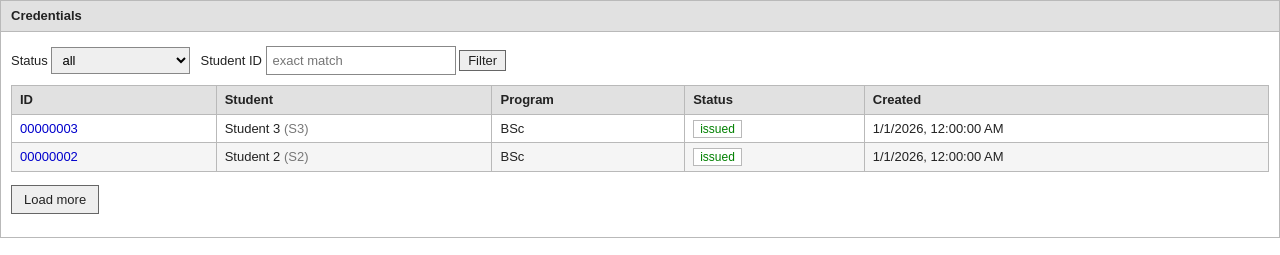
lists that arrive a page at a time › shows the first page, then appends the next one when asked, and stops when there is no more
The width and height of the screenshot is (1280, 255).
Expected: the text "Student 3" is shown, [225,120,280,136]
Expected: the text "Student 1" is not shown
What coordinates should you click on to do the following:
click the button "Load more"
I would click on:
 (55, 199)
Its box is [11,184,99,214].
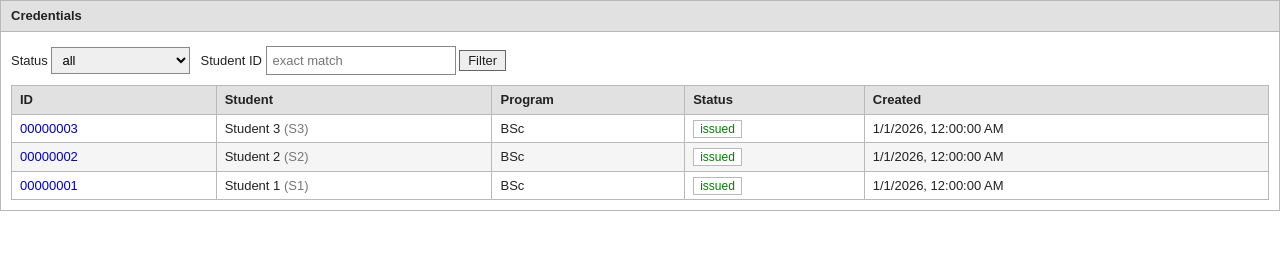
Expected: the text "Student 3" is shown, [225,120,280,136]
Now the text "Student 1" is shown, box [225,178,280,192]
Now the button "Load more" is gone
